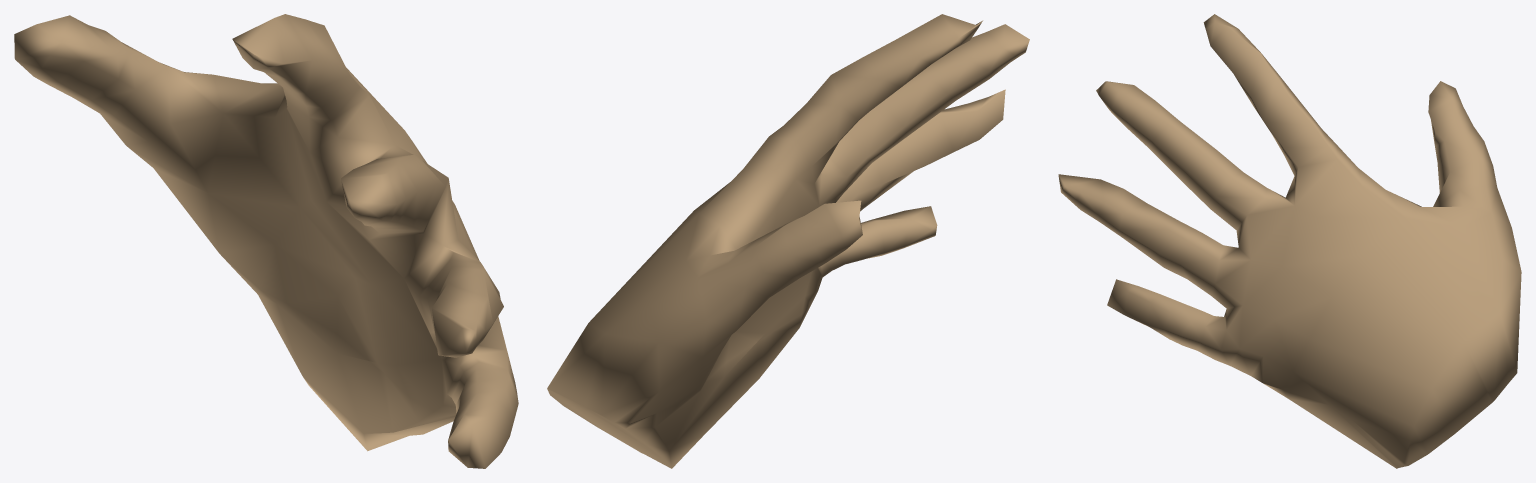
Rendered from Thief_LeftHand.fbx.
3 views of the same model, side by side, from view 1: azimuth 30°, elevation 25°; view 2: azimuth 150°, elevation 25°; view 3: azimuth 270°, elevation 25° (orthographic). The views are drawn at different scales.
Visible parts, largest first — view 1: T_LHand; view 2: T_LHand; view 3: T_LHand.
Part boxes in pixels (x1,y1,x2,y2): T_LHand: (14, 14, 518, 468); T_LHand: (547, 14, 1029, 468); T_LHand: (1058, 14, 1521, 468).
Size of the model in its own units: 9.93 by 12.75 by 14.77.
